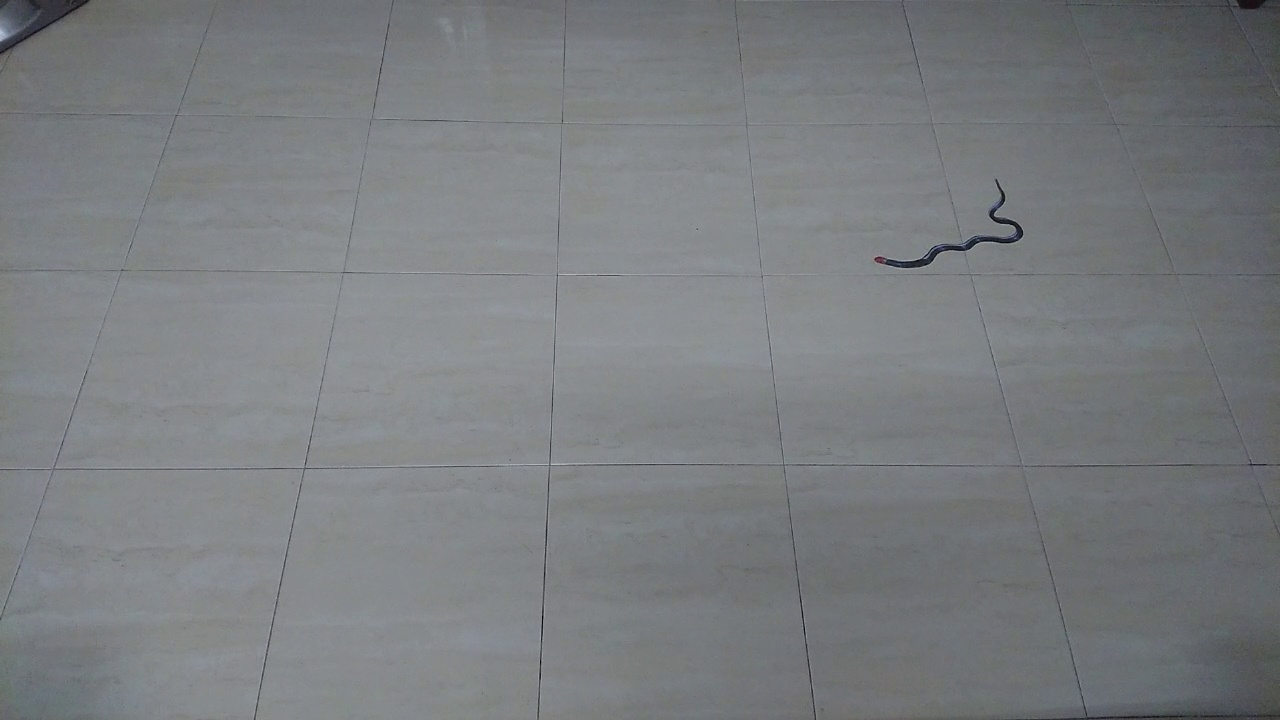snake: (865, 172, 1035, 275)
